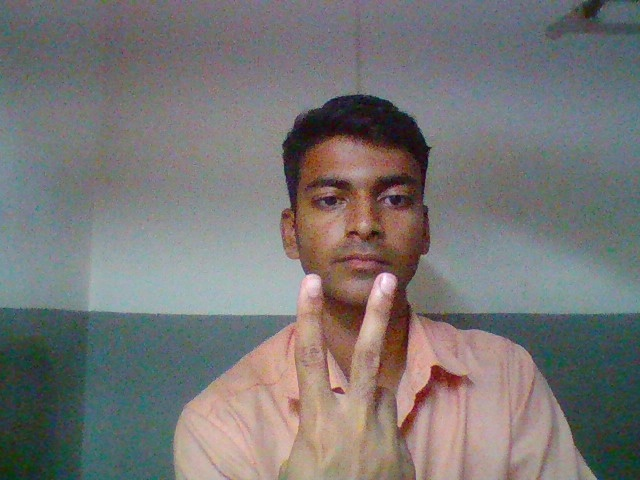V: (266, 254, 419, 480)
